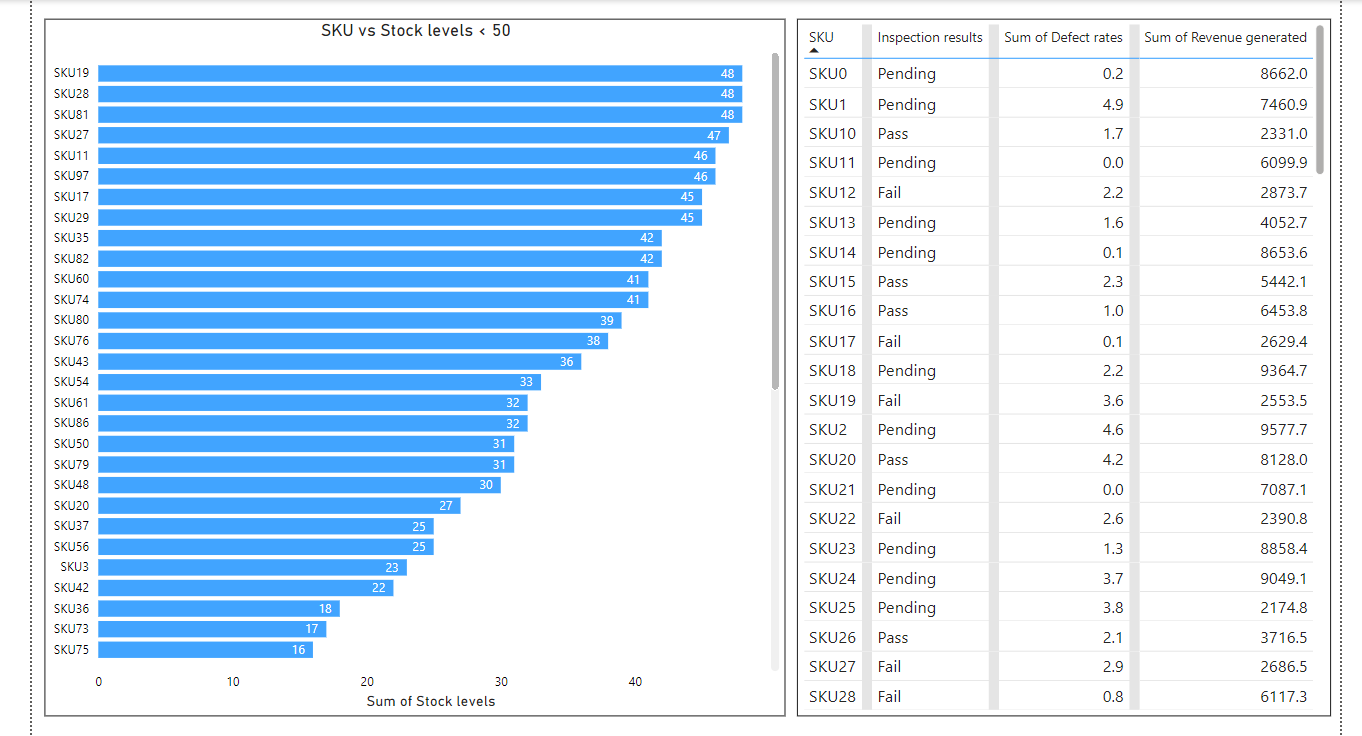

This screenshot's page, from the dashboard's own definition file:
{"tool":"powerbi","page":{"name":"Page 3","canvas":[1280,720],"ordinal":2},"visuals":[{"type":"barChart","title":"SKU vs Stock levels < 50","fields":{"Category":["scm_analysis.SKU"],"Y":["Sum(scm_analysis.Stock levels)"]},"box":[12.2,18.3,725.1,682.3],"z":0},{"type":"tableEx","fields":{"Values":["scm_analysis.SKU","scm_analysis.Inspection results","Sum(scm_analysis.Defect rates)","Sum(scm_analysis.Revenue generated)"]},"box":[748.4,18.3,522.1,682.3],"z":1000}]}

Visuals, with their boxes on the page's 1280x720 design canvas (x1, y1, x2, y2). These are canvas units, not pixel positions in the 1362x736 screenshot, which may show the page scaled, cropped or inside an application window:
"SKU vs Stock levels < 50" barChart: bbox(12, 18, 737, 701)
tableEx - scm_analysis.SKU x scm_analysis.Inspection results: bbox(748, 18, 1270, 701)
